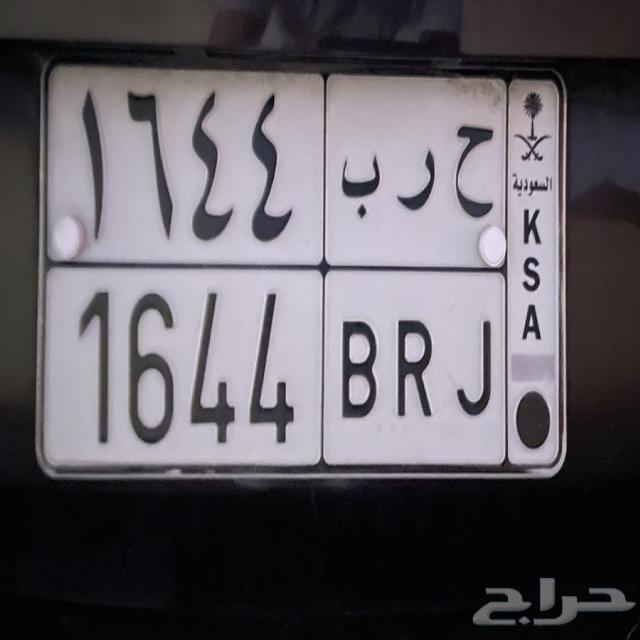license_plate: (43, 260, 508, 470)
